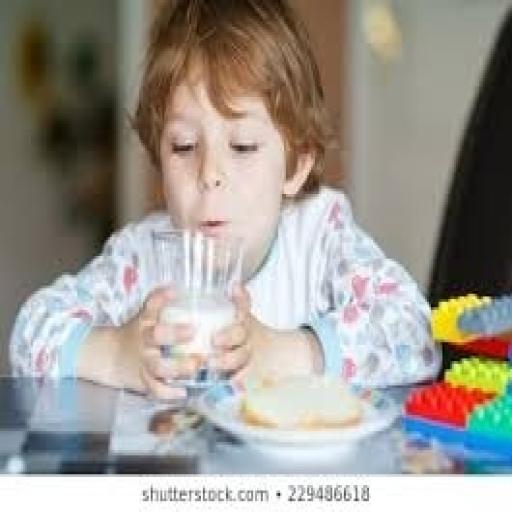drinking: (152, 73, 282, 389)
